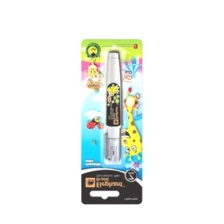book: (76, 35, 145, 207)
correction_fluid: (101, 50, 123, 165)
